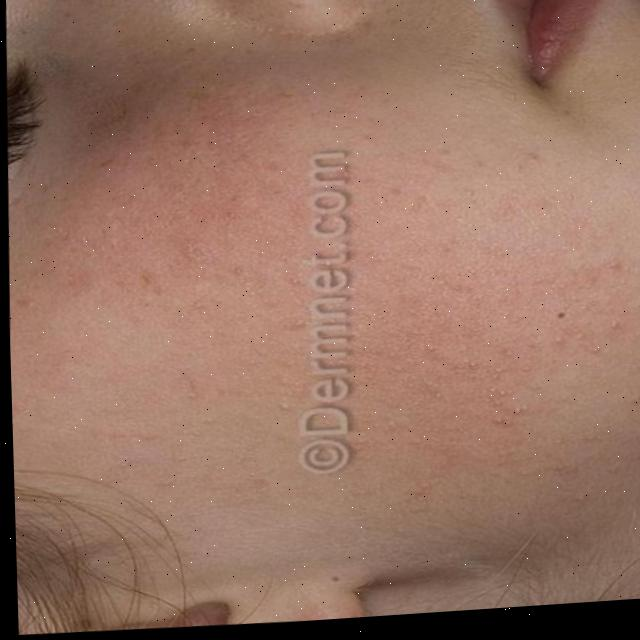Eczema: (122, 37, 550, 492)
